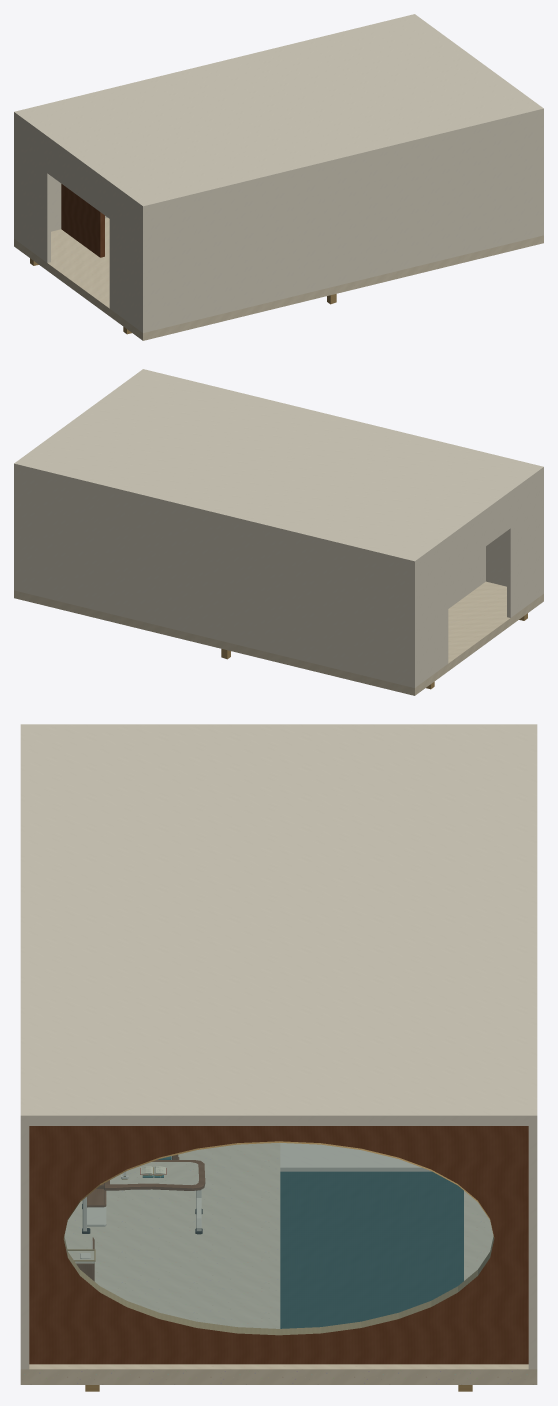
Rendered from StarAtlasSpecialty_491_CanonAdaptation.glb.
The picture shows the model from 3 angles, top to bottom: view 1: azimuth 30°, elevation 25°; view 2: azimuth 150°, elevation 25°; view 3: azimuth 270°, elevation 25°; orthographic projection. The views are drawn at different scales.
Parts seen in each view (by area): view 1: SA491_Ceiling, SA491_SouthSide, SA491_RoomFloor, SA491_EntryShoulderNorth, SA491_EntryShoulderSouth, SA491_EntryHeader, SA491_EntryPrivacyDogleg, SA491_NorthSide; view 2: SA491_Ceiling, SA491_NorthSide, SA491_RoomFloor, SA491_EntryShoulderSouth, SA491_EntryShoulderNorth, SA491_EntryHeader, SA491_WashEntrySide, SA491_SouthSide; view 3: SA491_Ceiling, SA491_OvalAtriumGlass, SA491_OvalWindowReveal, SA491_RoomFloor, SA491_Cocoon_RearLiner, SA491_OvalDepthReturn, SA491_Cocoon_Roof, SA491_NorthSide, SA491_SouthSide, SA491_LibraryStudyEdge__SINGLE_inset_stone_writing_surface, SA491_LibraryStudyEdge__SINGLE_carved_walnut_writing_edge, SA491_Cocoon_LeftLiner.
Boxes of the visible parts, x1,y1,x2,y2 form: SA491_Ceiling: (14, 14, 543, 211); SA491_SouthSide: (141, 114, 543, 332); SA491_RoomFloor: (14, 218, 543, 340); SA491_EntryShoulderNorth: (16, 119, 50, 262); SA491_EntryShoulderSouth: (109, 188, 140, 331); SA491_EntryHeader: (46, 141, 110, 219); SA491_EntryPrivacyDogleg: (61, 184, 104, 257); SA491_NorthSide: (14, 117, 107, 239); SA491_Ceiling: (14, 369, 543, 566); SA491_NorthSide: (14, 469, 416, 687); SA491_RoomFloor: (14, 581, 543, 695); SA491_EntryShoulderSouth: (507, 474, 541, 617); SA491_EntryShoulderNorth: (417, 542, 448, 686); SA491_EntryHeader: (448, 496, 511, 573); SA491_WashEntrySide: (448, 546, 485, 608); SA491_SouthSide: (486, 472, 543, 594); SA491_Ceiling: (20, 724, 537, 1125); SA491_OvalAtriumGlass: (64, 1143, 493, 1334); SA491_OvalWindowReveal: (29, 1126, 528, 1364); SA491_RoomFloor: (20, 1143, 537, 1384); SA491_Cocoon_RearLiner: (284, 1171, 459, 1328); SA491_OvalDepthReturn: (63, 1141, 494, 1335); SA491_Cocoon_Roof: (280, 1143, 431, 1171); SA491_NorthSide: (528, 1126, 537, 1369); SA491_SouthSide: (20, 1126, 29, 1369); SA491_LibraryStudyEdge__SINGLE_inset_stone_writing_surface: (110, 1162, 198, 1184); SA491_LibraryStudyEdge__SINGLE_carved_walnut_writing_edge: (104, 1160, 205, 1190); SA491_Cocoon_LeftLiner: (280, 1171, 284, 1328).
Bounding box in the file's own units: 12.9 × 4.91 × 7.2.
58 materials, 43 textured.
